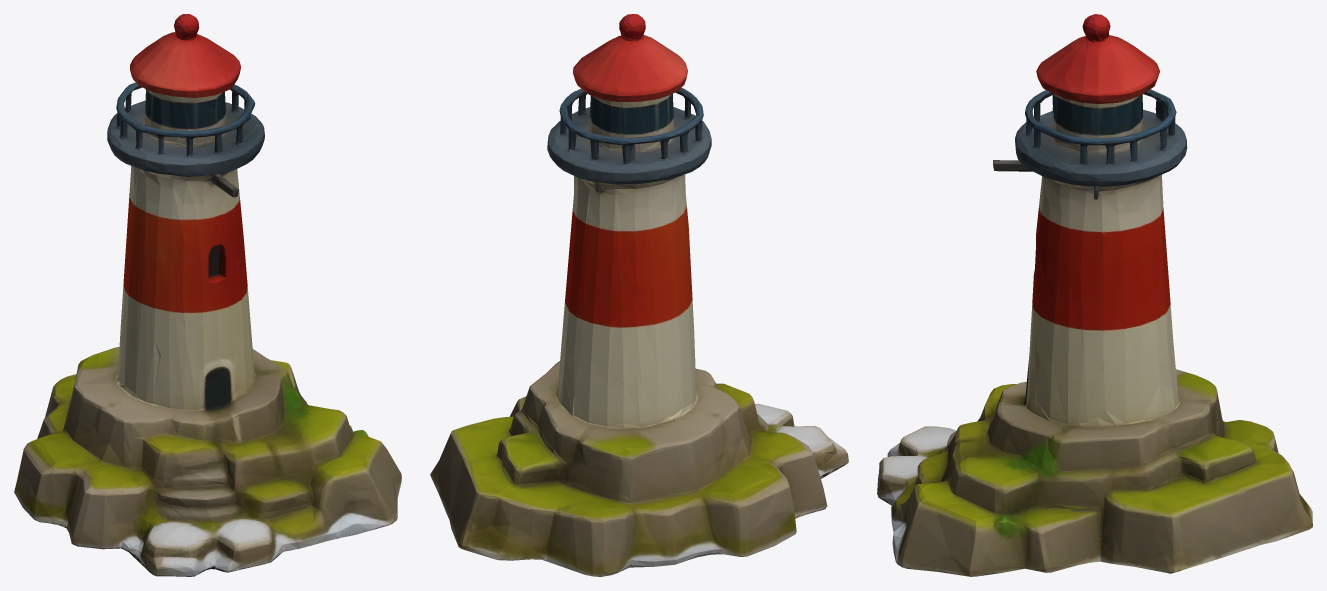
Rendered from lighthouse.glb.
3 renders of one model, left to right at view 1: azimuth 30°, elevation 25°; view 2: azimuth 150°, elevation 25°; view 3: azimuth 270°, elevation 25°, orthographic. The views are drawn at different scales.
Parts seen in each view (by area): view 1: geometry_0; view 2: geometry_0; view 3: geometry_0.
Boxes of the visible parts, x1=… form: geometry_0: x1=14, y1=14, x2=401, y2=576; geometry_0: x1=430, y1=14, x2=848, y2=576; geometry_0: x1=877, y1=14, x2=1312, y2=576.
Bounding box in the file's own units: 0.7004 × 1 × 0.8033.
Materials: 1 (1 with a texture image).
